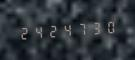four: (31, 22, 44, 41), (59, 20, 72, 39)
seven: (73, 19, 86, 38)
three: (87, 18, 100, 37)
two: (17, 23, 30, 42), (45, 21, 58, 40)
zero: (101, 17, 114, 36)
